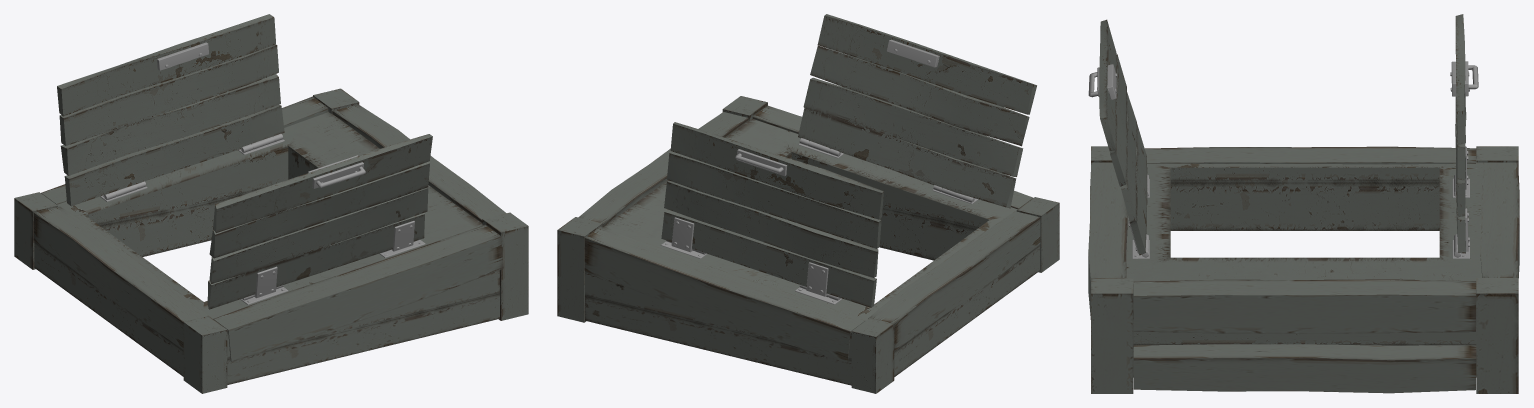
The model's file is SM_HatchB.FBX.
3 renders of one model, left to right at view 1: azimuth 30°, elevation 25°; view 2: azimuth 150°, elevation 25°; view 3: azimuth 270°, elevation 25°, orthographic. The views are drawn at different scales.
Parts seen in each view (by area): view 1: SM_HatchB_LOD0; view 2: SM_HatchB_LOD0; view 3: SM_HatchB_LOD0.
Boxes of the visible parts, x1,y1,x2,y2 form: SM_HatchB_LOD0: (14, 14, 528, 393); SM_HatchB_LOD0: (557, 14, 1059, 393); SM_HatchB_LOD0: (1088, 14, 1519, 393).
Size of what is drawn, in the model's own units: 203 by 120 by 203.
